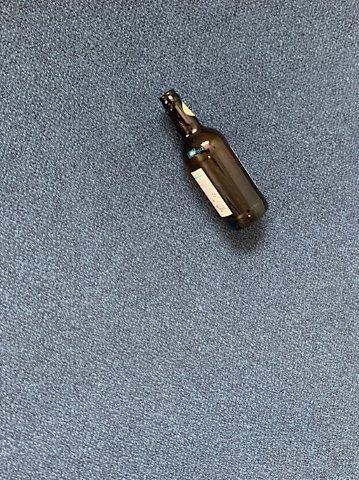botolkaca: (158, 89, 270, 229)
